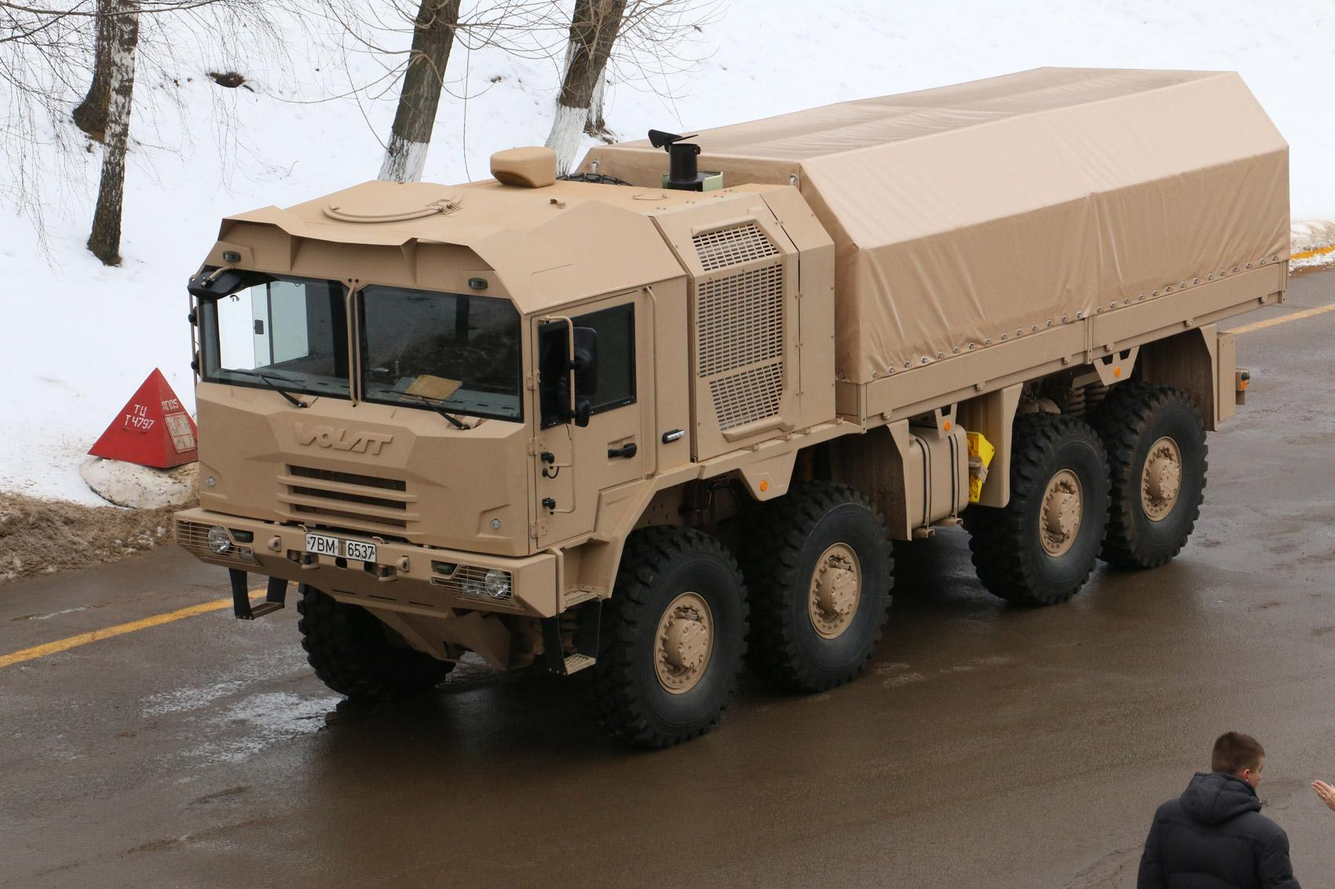truck: (159, 43, 1295, 751)
